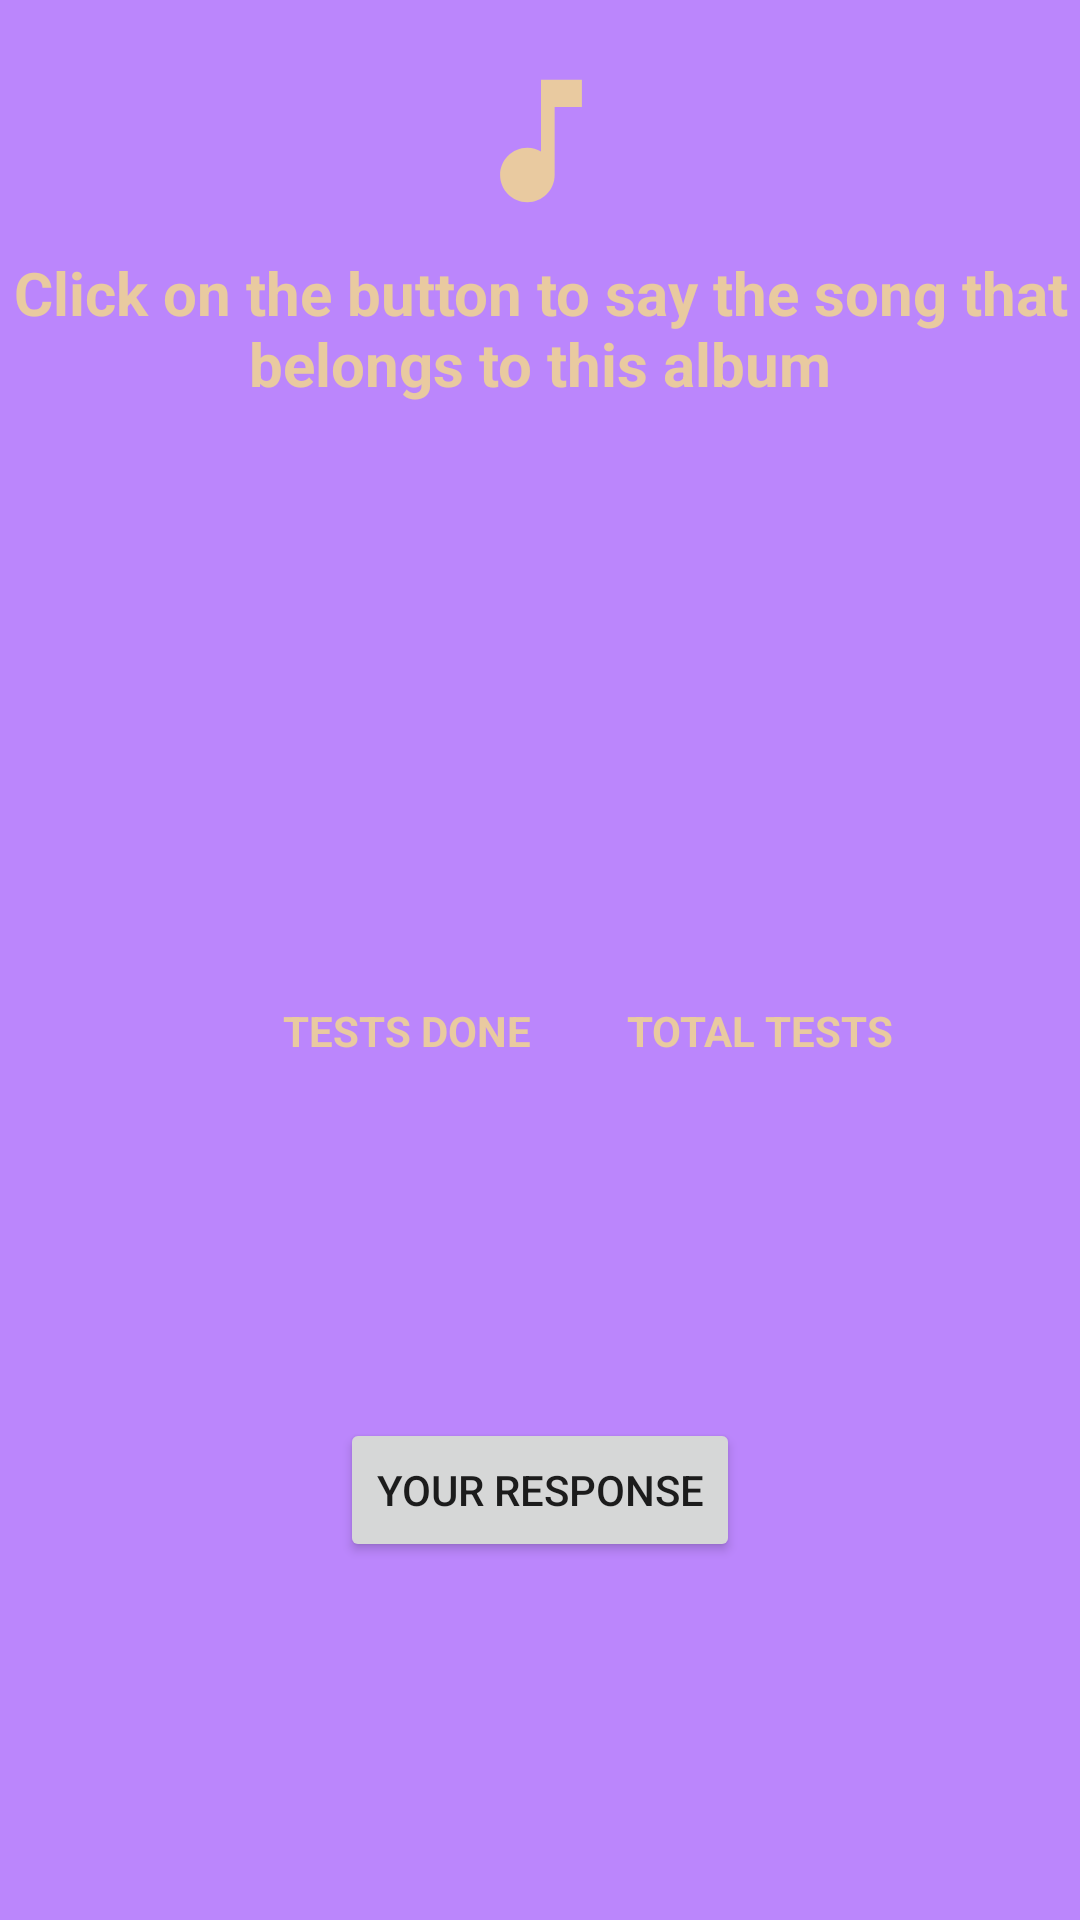

Icons on this 1080px x 1920px Android screen, each with its box as (x1, y1, x2, y2):
play music: (500, 80, 582, 202)
